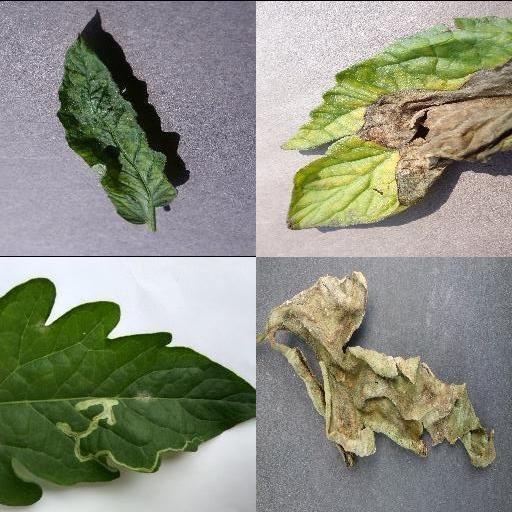Late Blight: (278, 14, 512, 230), (262, 269, 496, 465)
Leaf Miner: (0, 275, 256, 504)
Mosaic Virus: (55, 31, 179, 224)
